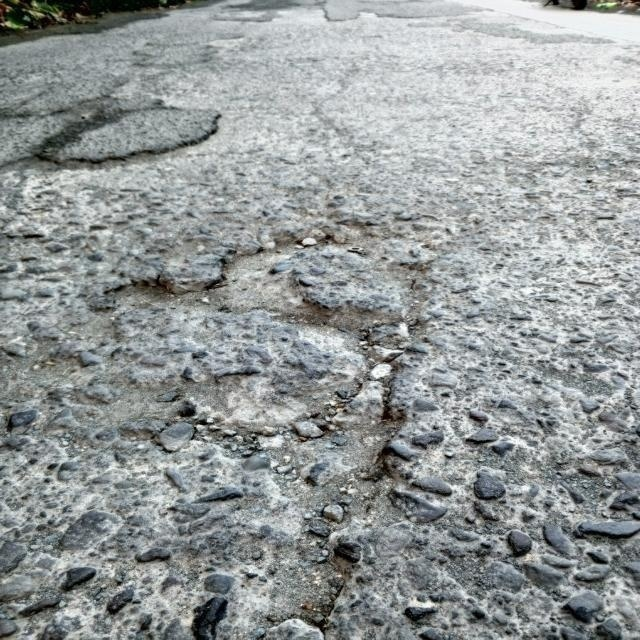pothole: (0, 118, 592, 638)
